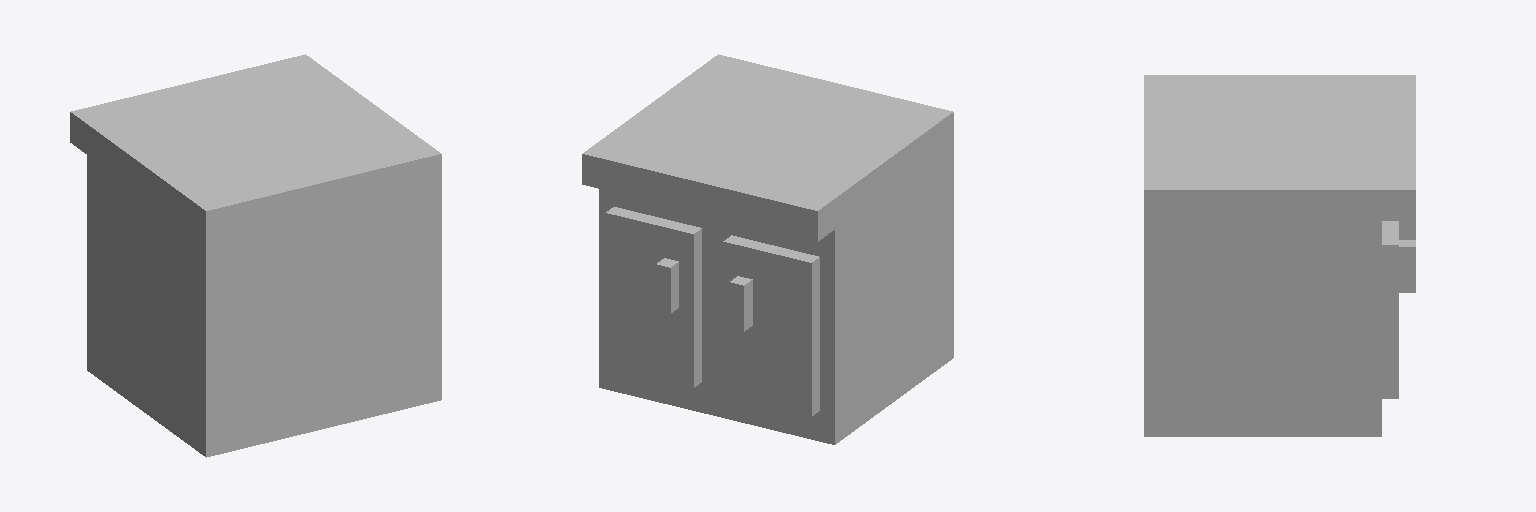
Rendered from FM_counter_mid.obj.
The picture shows the model from 3 angles: view 1: azimuth 30°, elevation 25°; view 2: azimuth 150°, elevation 25°; view 3: azimuth 270°, elevation 25°; orthographic projection.
Parts seen in each view (by area): view 1: nodebox6, nodebox7; view 2: nodebox7, nodebox6, nodebox9, nodebox8, nodebox11, nodebox12; view 3: nodebox6, nodebox7, nodebox9, nodebox12.
Boxes of the visible parts, x1,y1,x2,y2 form: nodebox6: [87, 155, 441, 457]; nodebox7: [70, 54, 441, 241]; nodebox7: [582, 54, 953, 241]; nodebox6: [599, 143, 953, 444]; nodebox9: [605, 207, 701, 387]; nodebox8: [723, 235, 819, 416]; nodebox11: [729, 276, 752, 331]; nodebox12: [656, 258, 678, 313]; nodebox6: [1144, 221, 1381, 436]; nodebox7: [1144, 75, 1415, 220]; nodebox9: [1382, 221, 1398, 398]; nodebox12: [1399, 240, 1415, 292].
Size of the model in its own units: 1 by 1 by 1.